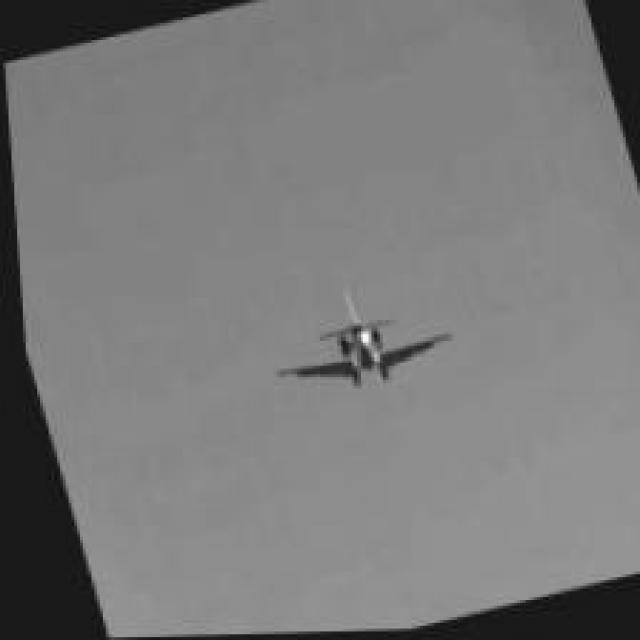aeroplane: (238, 262, 462, 414)
